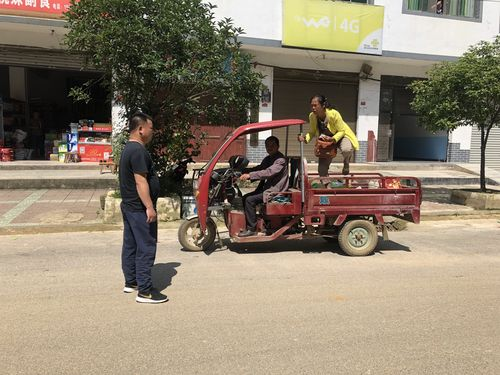driver: (225, 119, 293, 238)
overloading: (182, 96, 422, 259)
passenger: (304, 90, 354, 177)
